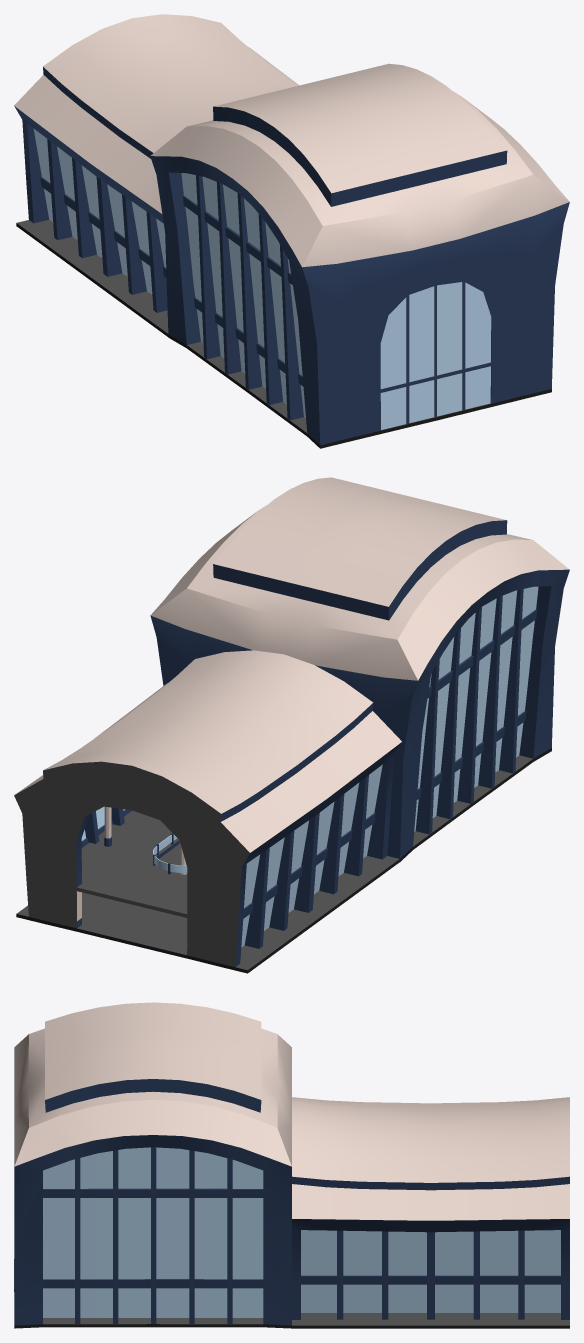
The model's file is 07_Modulo2_AIRPORT_0.obj.
The picture shows the model from 3 angles, top to bottom: view 1: azimuth 30°, elevation 25°; view 2: azimuth 150°, elevation 25°; view 3: azimuth 270°, elevation 25°; orthographic projection. The views are drawn at different scales.
Visible parts, largest first — view 1: 07.Modulo2_AIRPORT_0; view 2: 07.Modulo2_AIRPORT_0; view 3: 07.Modulo2_AIRPORT_0.
Part boxes in pixels (left/top/right/bottom): 07.Modulo2_AIRPORT_0: left=14, top=14, right=569, bottom=448; 07.Modulo2_AIRPORT_0: left=14, top=477, right=569, bottom=973; 07.Modulo2_AIRPORT_0: left=14, top=1002, right=569, bottom=1328.
Size of the model in its own units: 35.59 by 33.1 by 70.01.
1 material, 1 textured.
